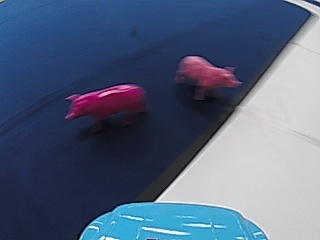pig: (61, 80, 150, 129), (175, 53, 242, 100)
